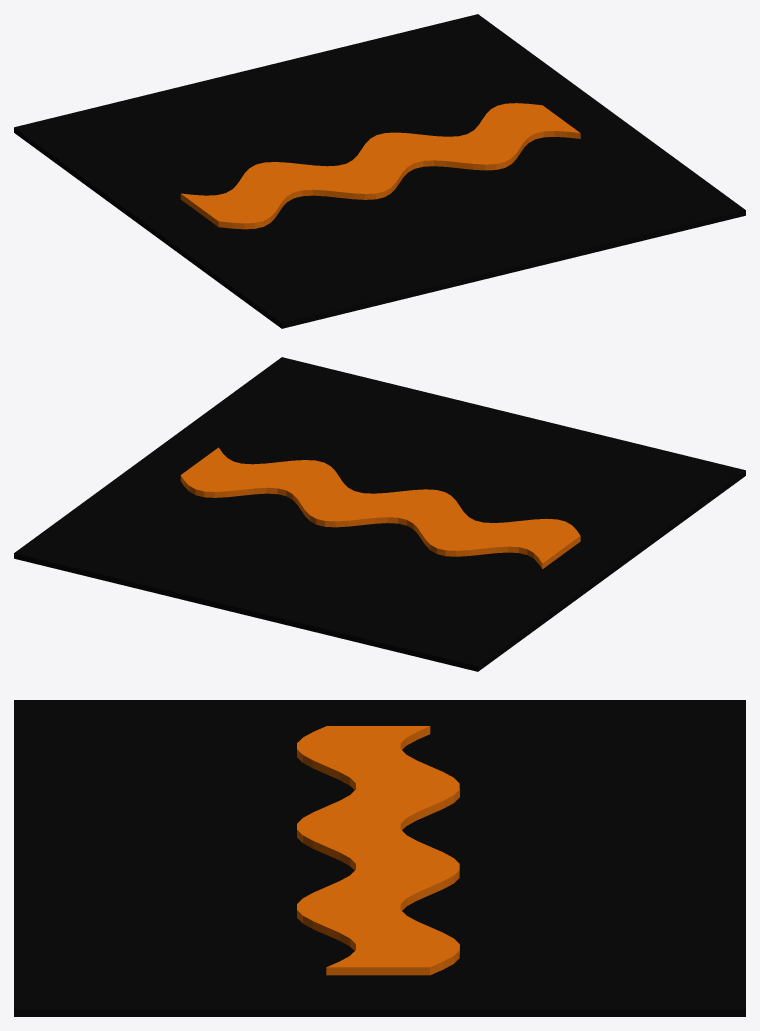
The model's file is curve_tracer.dae.
3 renders of one model, top to bottom at view 1: azimuth 30°, elevation 25°; view 2: azimuth 150°, elevation 25°; view 3: azimuth 270°, elevation 25°, orthographic. The views are drawn at different scales.
Visible parts, largest first — view 1: Plane, Z Function; view 2: Plane, Z Function; view 3: Plane, Z Function.
Part boxes in pixels (left/top/right/bottom): Plane: left=14, top=14, right=745, bottom=328; Z Function: left=180, top=103, right=580, bottom=229; Plane: left=14, top=357, right=745, bottom=671; Z Function: left=180, top=447, right=580, bottom=569; Plane: left=14, top=700, right=745, bottom=1016; Z Function: left=297, top=726, right=459, bottom=975.
Bounding box in the file's own units: 24.18 × 24.18 × 0.9717.
